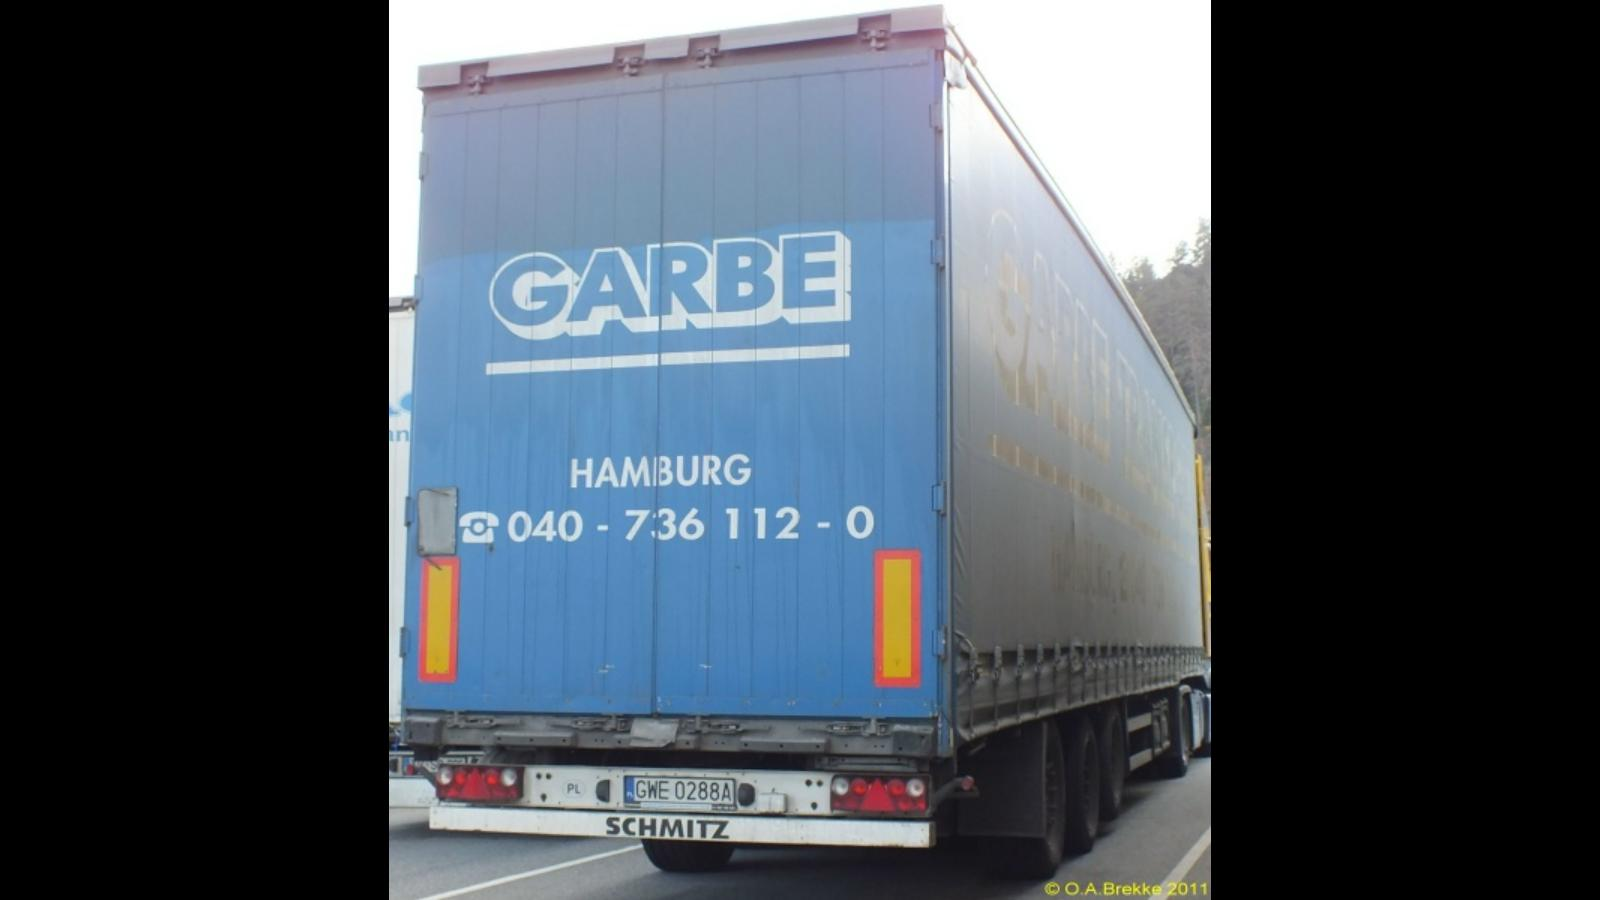plates: (624, 775, 736, 810)
